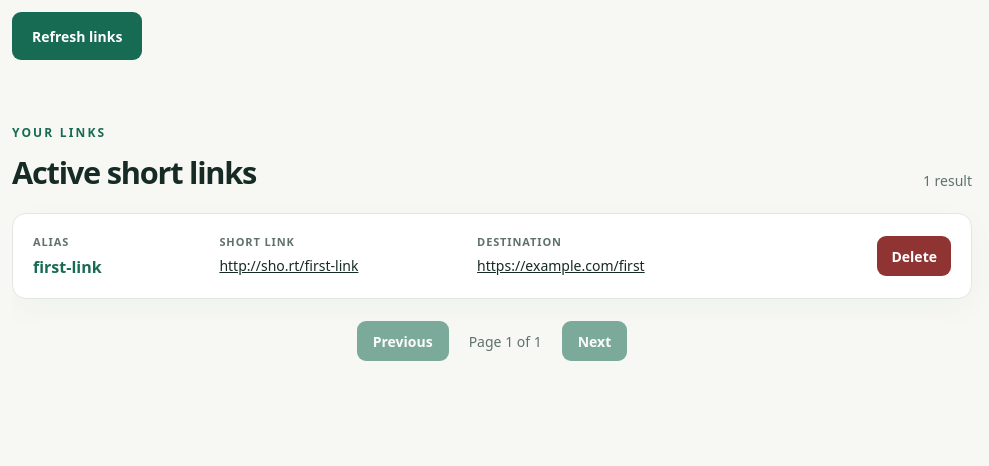
Test case: ShortLinkList › shows a helpful error when deleting a link fails to reach the proxy
The width and height of the screenshot is (989, 466).
Expected: the text "first-link" is shown, [33,256,102,278]
Click the button "Delete" at (914, 256), box [878,236,951,276]
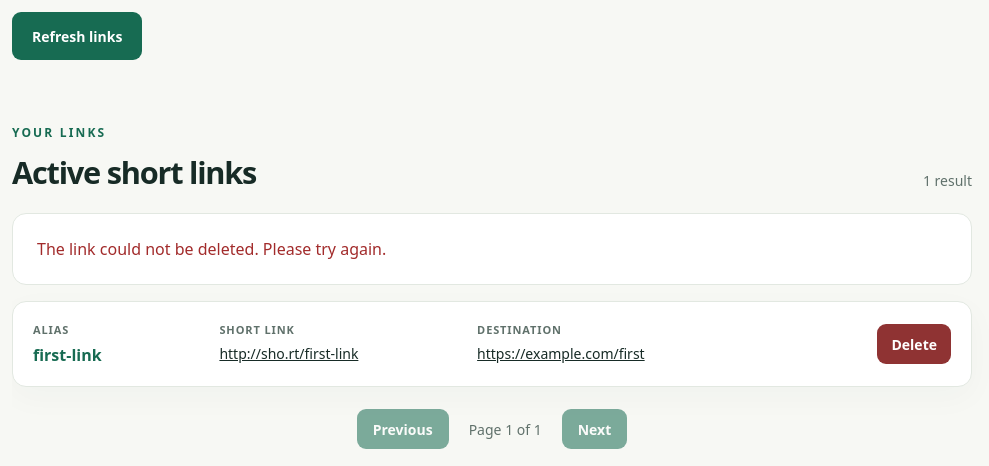
Expected: the text "first-link" is shown, [33,344,102,366]
Expected: the message shows "The link could not be deleted.", [37,238,386,260]
